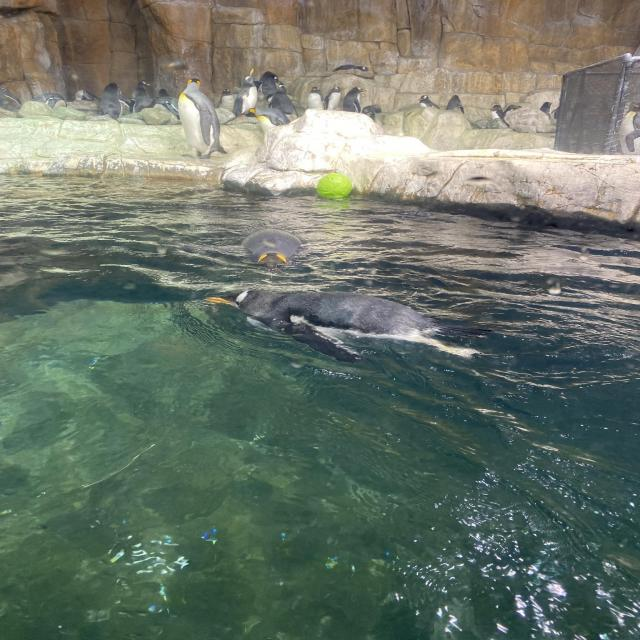penguin: (203, 286, 493, 364), (179, 77, 228, 158), (241, 228, 302, 272), (239, 106, 291, 136), (618, 101, 640, 156), (100, 82, 130, 120), (267, 82, 298, 118), (233, 67, 256, 115), (257, 70, 278, 101), (131, 81, 152, 111), (323, 84, 347, 109), (346, 85, 366, 112), (306, 84, 326, 110), (444, 94, 466, 116), (0, 86, 19, 111), (36, 93, 67, 108), (415, 95, 438, 114), (490, 103, 507, 127), (331, 63, 371, 73), (361, 104, 383, 122), (540, 100, 555, 118), (74, 88, 94, 101)
